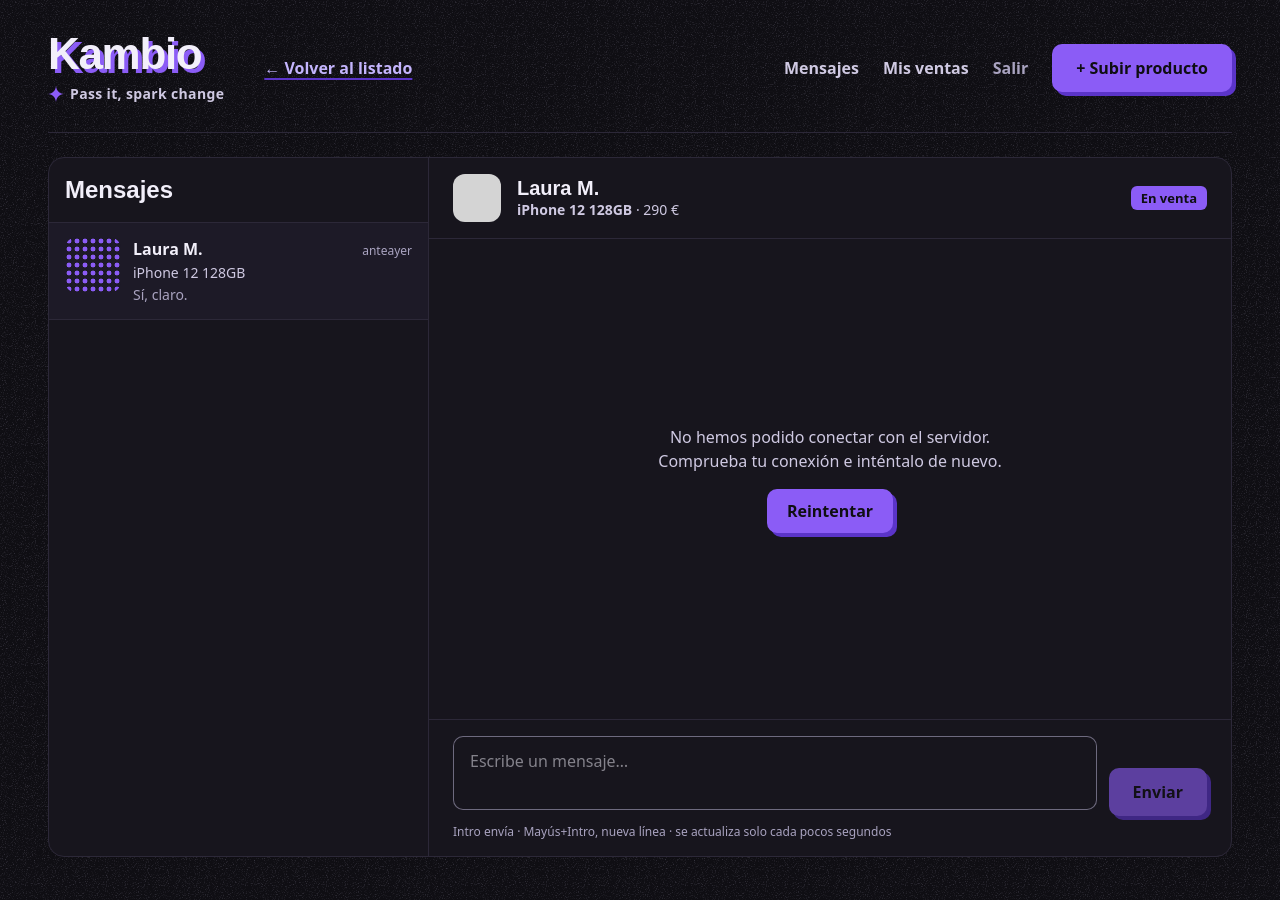
ChatPage › un fallo en la primera carga ofrece reintentar
This screenshot has width=1280, height=900.
Expected: the message shows "No hemos podido conectar", x1=658 y1=426 x2=1002 y2=472
Click the button "Reintentar" at (830, 511), box x1=767 y1=489 x2=893 y2=533
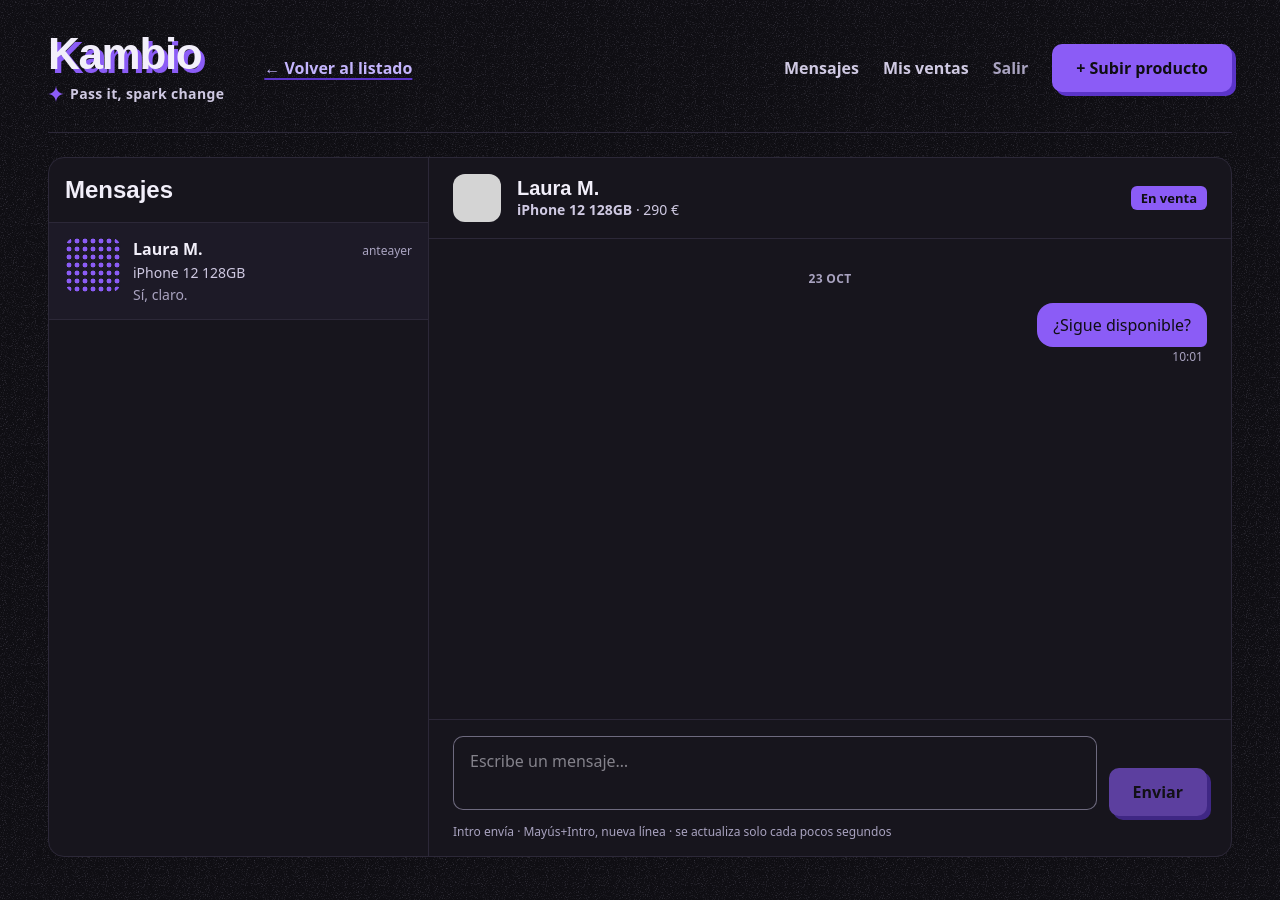
Expected: the text "¿Sigue disponible?" is shown, x1=1037 y1=303 x2=1207 y2=347
